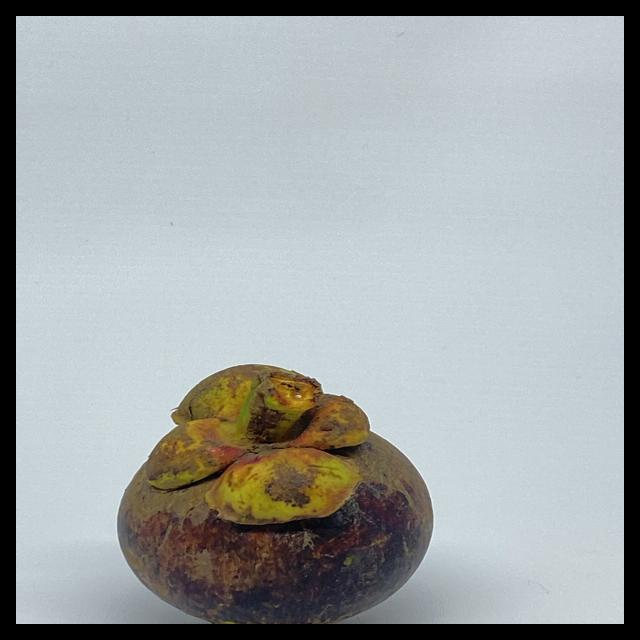mangosteen: (108, 361, 448, 624)
